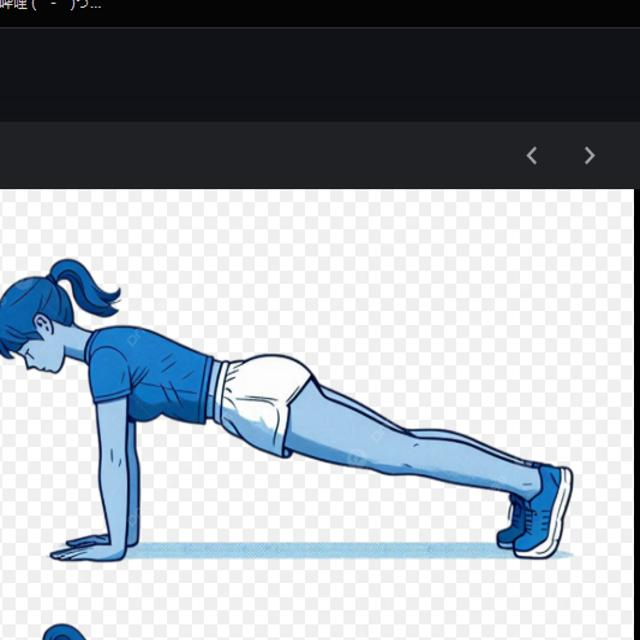Plank_Pose: (4, 258, 577, 571)
